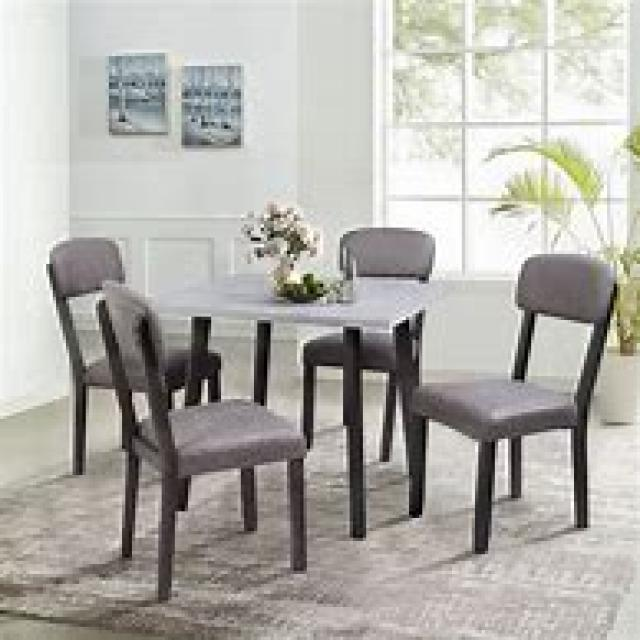chair: (92, 277, 307, 601), (406, 251, 617, 551), (43, 234, 221, 475), (300, 224, 436, 462)
table: (138, 270, 436, 538)
